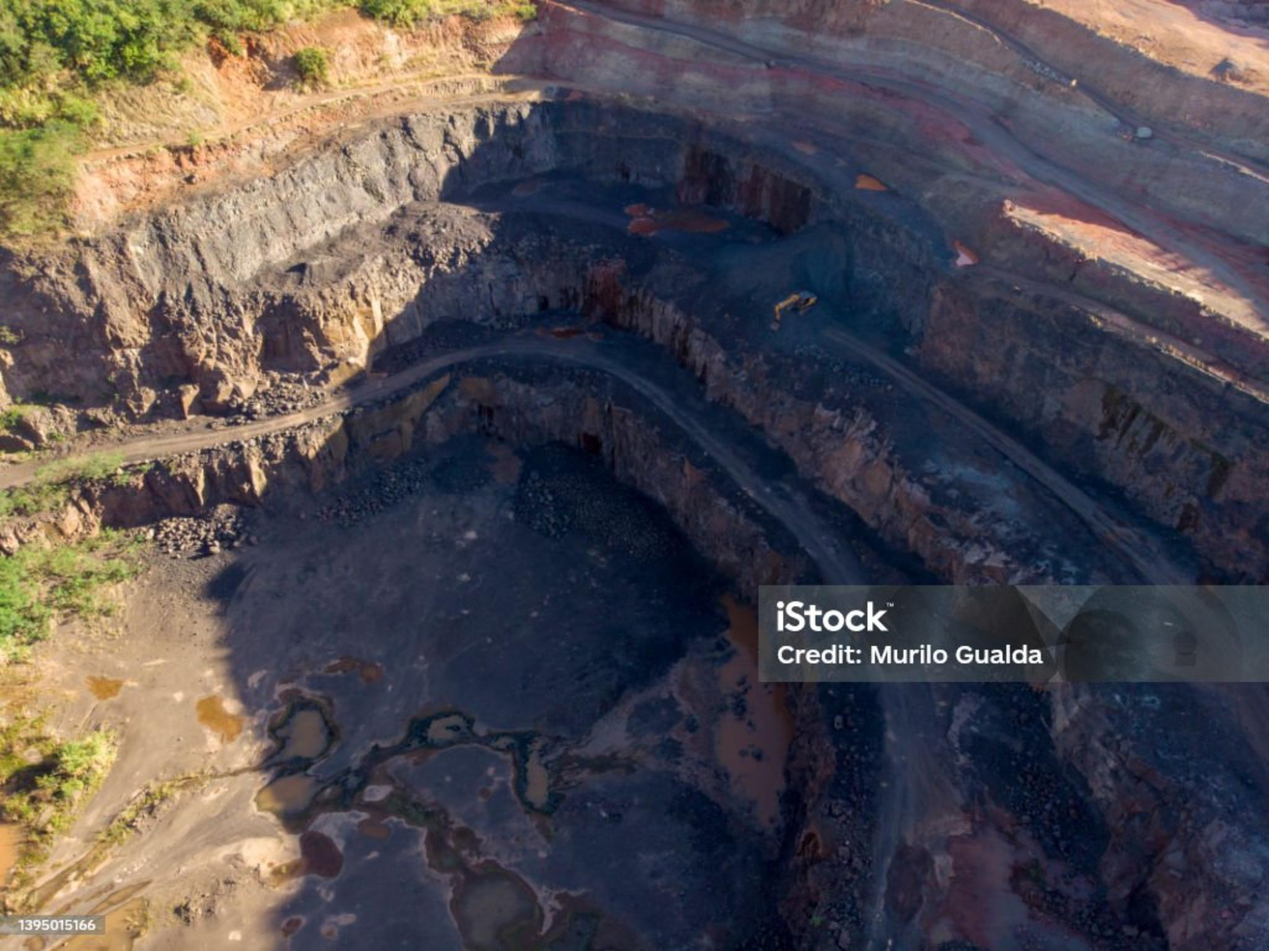benches: (563, 0, 1268, 311), (4, 338, 864, 583), (833, 326, 1268, 796), (944, 687, 1164, 949), (865, 684, 946, 950), (648, 57, 861, 148), (426, 56, 643, 100)
wall: (104, 358, 766, 574), (915, 275, 1268, 563)
